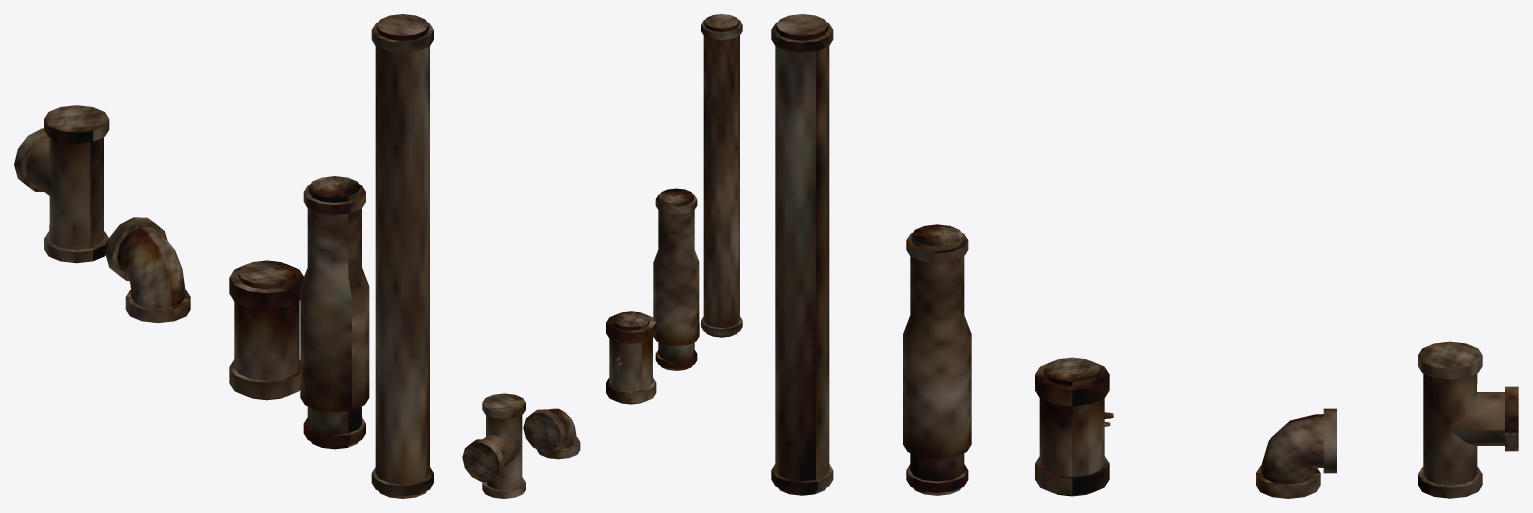
The model's file is Trubes (2).fbx.
3 renders of one model, left to right at view 1: azimuth 30°, elevation 25°; view 2: azimuth 150°, elevation 25°; view 3: azimuth 270°, elevation 25°, orthographic. The views are drawn at different scales.
Parts seen in each view (by area): view 1: trube1, trube2, trube5, trube3, trube4; view 2: trube1, trube2, trube5, trube3, trube4; view 3: trube1, trube2, trube5, trube3, trube4.
Part boxes in pixels (left/top/right/bottom): trube1: left=371, top=14, right=433, bottom=498; trube2: left=300, top=176, right=369, bottom=449; trube5: left=14, top=105, right=109, bottom=263; trube3: left=229, top=260, right=303, bottom=400; trube4: left=105, top=217, right=190, bottom=323; trube1: left=701, top=14, right=742, bottom=337; trube2: left=653, top=188, right=699, bottom=370; trube5: left=462, top=393, right=525, bottom=498; trube3: left=606, top=311, right=656, bottom=404; trube4: left=523, top=408, right=580, bottom=459; trube1: left=771, top=14, right=833, bottom=495; trube2: left=903, top=224, right=971, bottom=495; trube5: left=1418, top=341, right=1518, bottom=498; trube3: left=1035, top=357, right=1113, bottom=496; trube4: left=1256, top=408, right=1336, bottom=498.
Bounding box in the file's own units: 276 × 1882 × 2768.
